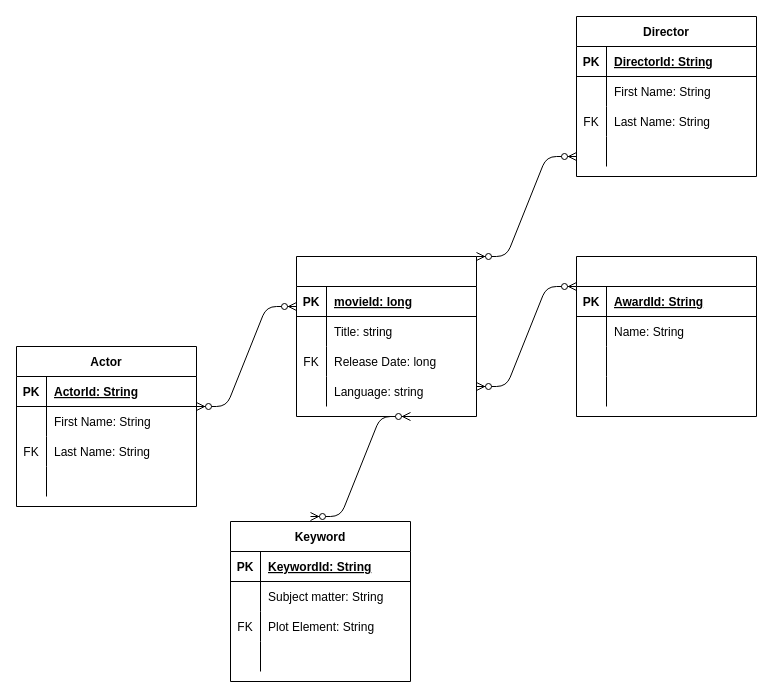
The diagram is 773 pixels wide and 698 high, and some of its shapes have lost their labels. The box of each missing label's shape, as (x1, y1, x2, y2) in pixels:
Awards: (576, 256, 756, 416)
Movie Title: (296, 256, 476, 416)
